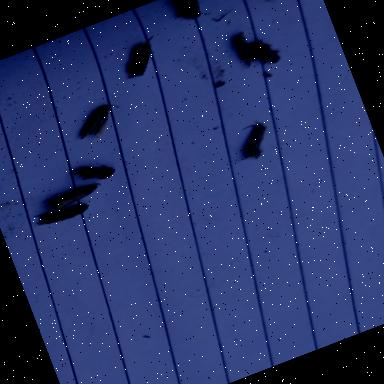pbw: (226, 117, 278, 166), (73, 100, 128, 144), (118, 35, 167, 81), (46, 180, 105, 212), (34, 198, 91, 230), (73, 156, 118, 189), (249, 34, 284, 70), (230, 30, 258, 70), (172, 0, 205, 24)
